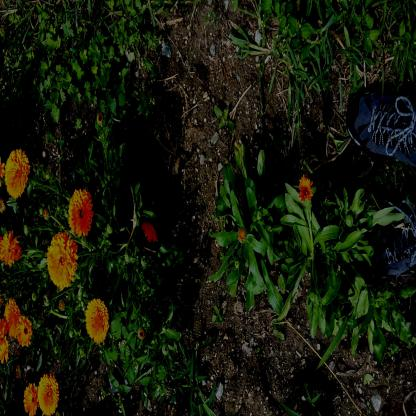marigold: (47, 234, 77, 288), (5, 151, 29, 197), (68, 192, 94, 234), (86, 299, 109, 342), (38, 376, 58, 414), (4, 300, 21, 338), (0, 230, 17, 266), (0, 317, 9, 365), (24, 385, 38, 414), (18, 317, 32, 345), (141, 221, 157, 243), (12, 243, 22, 260)
